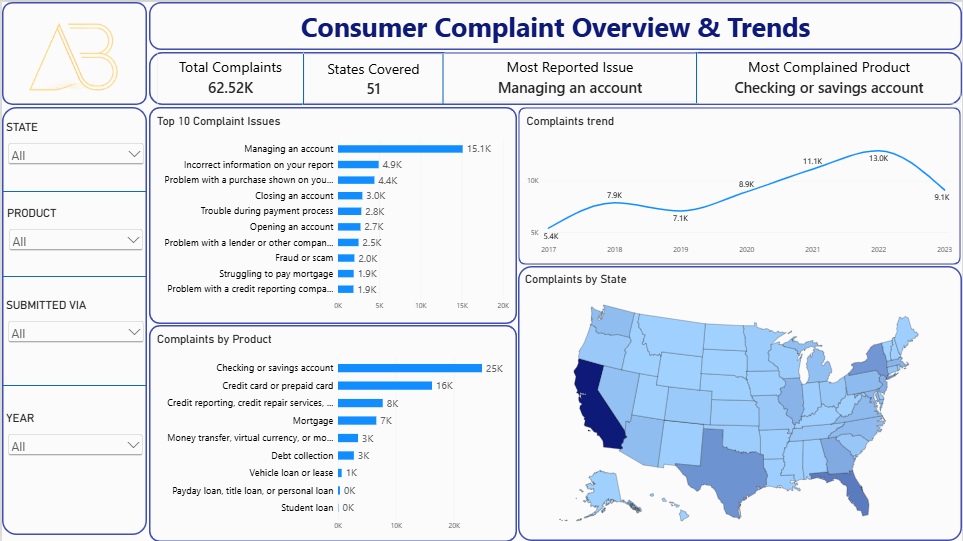

The page's visual inventory and layout, read from the dashboard file:
{"tool":"powerbi","page":{"name":"Page 1","canvas":[1920,1080],"ordinal":0},"visuals":[{"type":"shape","box":[1032,528,888,550],"z":0},{"type":"shape","box":[294,646,736,434],"z":1000},{"type":"shape","box":[1032,210,886,316],"z":2000},{"type":"shape","box":[294,210,736,434],"z":3000},{"type":"shape","box":[0,210,290,856],"z":4000},{"type":"shape","box":[294,100,1626,106],"z":5000},{"type":"lineChart","title":"Complaints trend","fields":{"Category":["Calendar.Year"],"Y":["Consumer Complaints.Total Complaints"]},"box":[1032,210,886,316],"z":6000},{"type":"clusteredBarChart","title":"Complaints by Product","fields":{"Category":["Consumer Complaints.Product"],"Y":["Consumer Complaints.Total Complaints"]},"box":[294,646,736,432],"z":7000},{"type":"clusteredBarChart","title":"Top 10 Complaint Issues","fields":{"Category":["Consumer Complaints.Issue"],"Y":["Consumer Complaints.Total Complaints"]},"box":[294,210,736,428],"z":8000},{"type":"shapeMap","title":"Complaints by State","fields":{"Category":["Consumer Complaints.State"],"Value":["Consumer Complaints.Total Complaints"]},"box":[1030,526,888,552],"z":9000},{"type":"slicer","title":"YEAR","fields":{"Values":["Calendar.Year"]},"box":[8,818,278,164],"z":10000},{"type":"slicer","title":"STATE","fields":{"Values":["Consumer Complaints.State"]},"box":[8,236,280,144],"z":11000},{"type":"slicer","title":"PRODUCT","fields":{"Values":["Consumer Complaints.Product"]},"box":[10,408,276,118],"z":12000},{"type":"slicer","title":"SUBMITTED VIA","fields":{"Values":["Consumer Complaints.Submitted via"]},"box":[8,592,280,128],"z":13000},{"type":"cardVisual","fields":{"Data":["Consumer Complaints.Total Complaints"]},"box":[310,92,294,116],"z":14000},{"type":"cardVisual","fields":{"Data":["Consumer Complaints.Most Complained Product"]},"box":[1390,96,528,108],"z":15000},{"type":"cardVisual","fields":{"Data":["Consumer Complaints.Most Reported Issue"]},"box":[882,100,508,100],"z":16000},{"type":"cardVisual","fields":{"Data":["Consumer Complaints.States Covered"]},"box":[604,104,278,98],"z":17000},{"type":"shape","box":[294,0,1626,96],"z":18000},{"type":"shape","box":[0,0,290,206],"z":19000},{"type":"shape","box":[570,104,66,102],"z":20000},{"type":"shape","box":[854,104,56,102],"z":21000},{"type":"shape","box":[1356,100,66,102],"z":22000},{"type":"image","box":[0,0,290,208],"z":23000},{"type":"shape","box":[0,328,288,102],"z":24000},{"type":"shape","box":[0,498,288,102],"z":25000},{"type":"shape","box":[0,716,288,102],"z":26000}]}

Visuals, with their boxes in screenshot pixels (x1, y1, x2, y2), scaled from the page's 1920x1080 canvas onto the 963x541 screenshot:
shape: 518:264:962:540
shape: 147:324:517:540
shape: 518:105:962:263
shape: 147:105:517:323
shape: 0:105:145:534
shape: 147:50:962:103
"Complaints trend" lineChart: 518:105:962:263
"Complaints by Product" clusteredBarChart: 147:324:517:540
"Top 10 Complaint Issues" clusteredBarChart: 147:105:517:320
"Complaints by State" shapeMap: 517:263:962:540
"YEAR" slicer: 4:410:143:492
"STATE" slicer: 4:118:144:190
"PRODUCT" slicer: 5:204:143:263
"SUBMITTED VIA" slicer: 4:297:144:361
cardVisual - Consumer Complaints.Total Complaints: 155:46:303:104
cardVisual - Consumer Complaints.Most Complained Product: 697:48:962:102
cardVisual - Consumer Complaints.Most Reported Issue: 442:50:697:100
cardVisual - Consumer Complaints.States Covered: 303:52:442:101
shape: 147:0:962:48
shape: 0:0:145:103
shape: 286:52:319:103
shape: 428:52:456:103
shape: 680:50:713:101
image: 0:0:145:104
shape: 0:164:144:215
shape: 0:249:144:301
shape: 0:359:144:410
